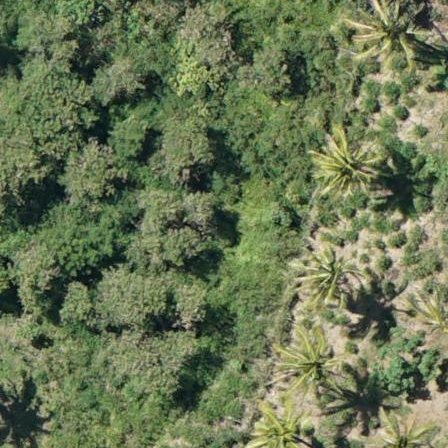palm_tree: (292, 233, 365, 311), (273, 329, 344, 402), (306, 125, 376, 198), (354, 1, 421, 67), (247, 409, 313, 448)
